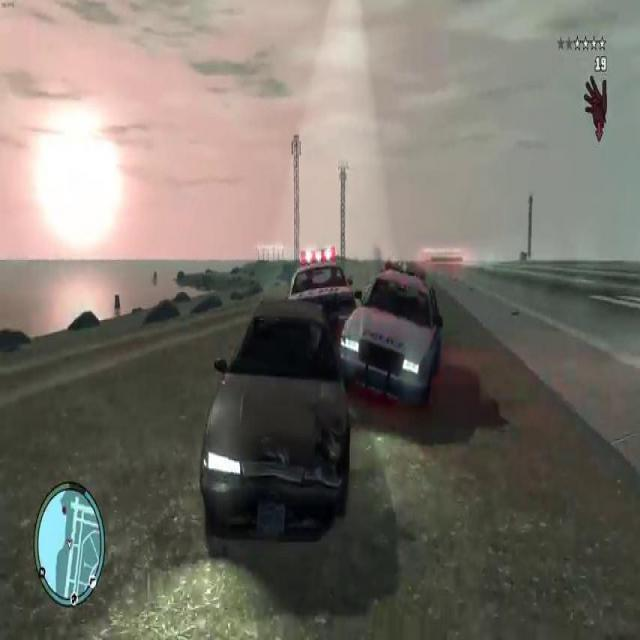moderate: (290, 233, 445, 420)
